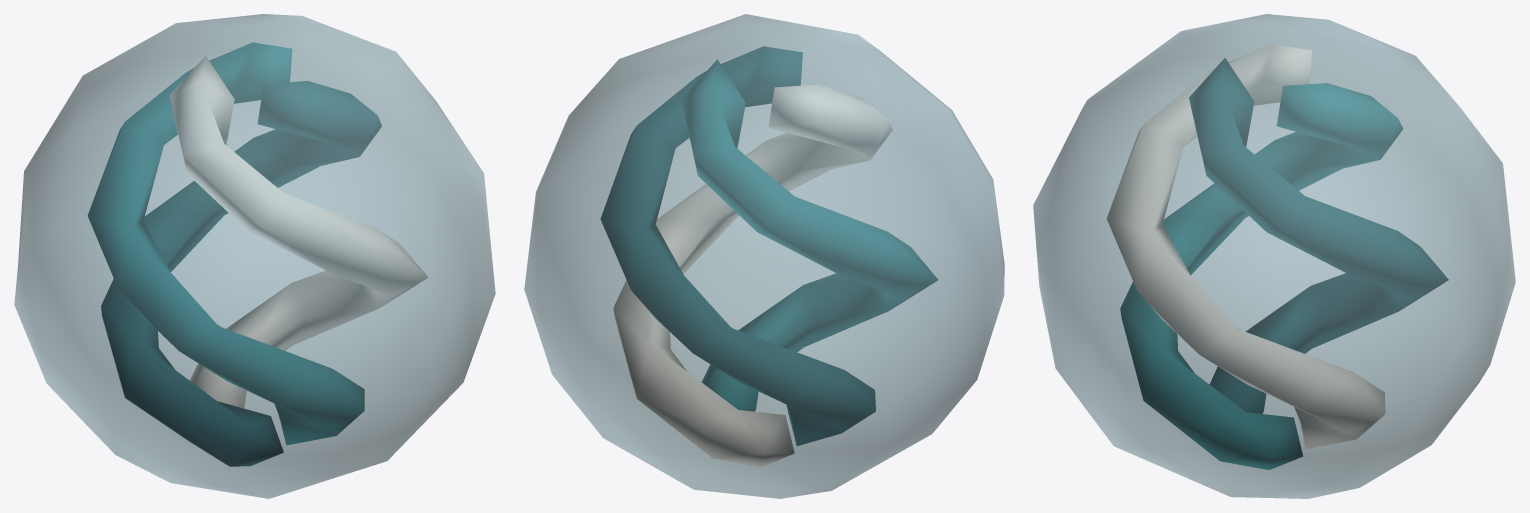
File: grotto_marble_lod2.glb
3 renders of one model, left to right at view 1: azimuth 30°, elevation 25°; view 2: azimuth 150°, elevation 25°; view 3: azimuth 270°, elevation 25°, orthographic.
Visible parts, largest first — view 1: grotto_marble.001; view 2: grotto_marble.001; view 3: grotto_marble.001.
Boxes of the visible parts, x1,y1,x2,y2 form: grotto_marble.001: (14, 14, 495, 498); grotto_marble.001: (524, 14, 1004, 498); grotto_marble.001: (1033, 14, 1515, 498).
Size of the model in its own units: 5.97 by 6.01 by 5.95.
